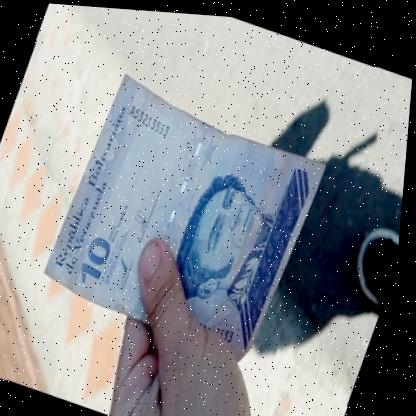ten-front-vef: (37, 63, 339, 368)
